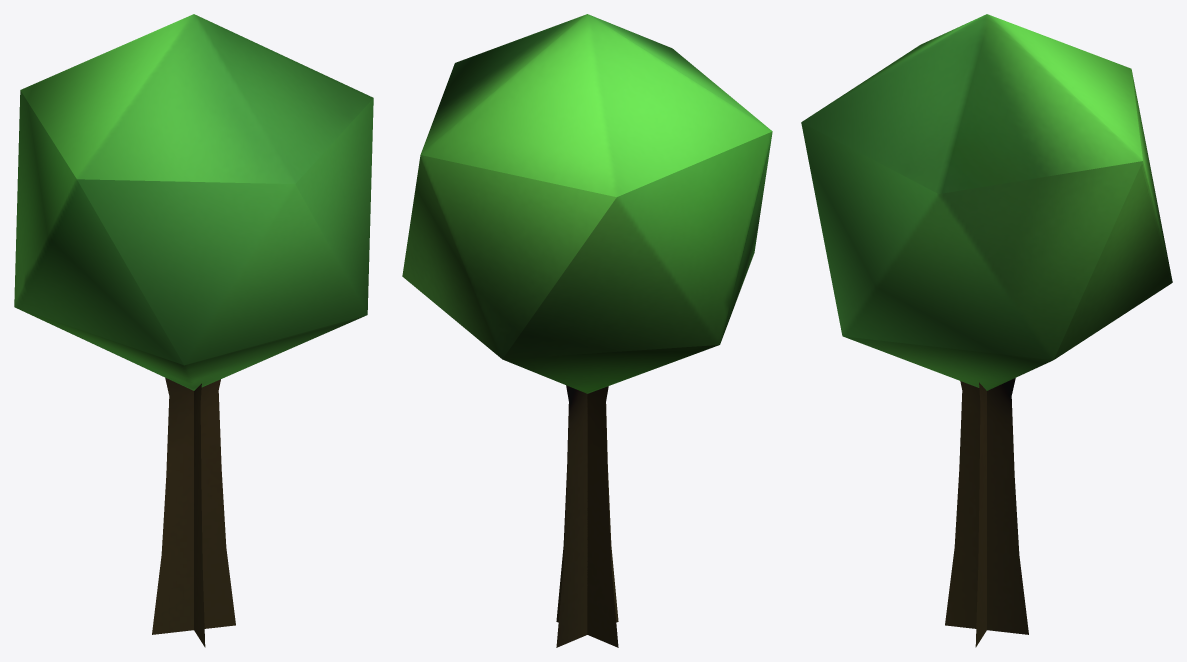
The model's file is OpTree.FBX.
The picture shows the model from 3 angles, left to right: view 1: azimuth 30°, elevation 25°; view 2: azimuth 150°, elevation 25°; view 3: azimuth 270°, elevation 25°; orthographic projection.
Parts seen in each view (by area): view 1: Tree; view 2: Tree; view 3: Tree.
Part boxes in pixels (<box>): Tree: <box>14,14,373,647</box>; Tree: <box>402,14,772,647</box>; Tree: <box>801,14,1172,647</box>.
Bounding box in the file's own units: 731 × 756 × 1383.
Materials: 1 (1 with a texture image).
